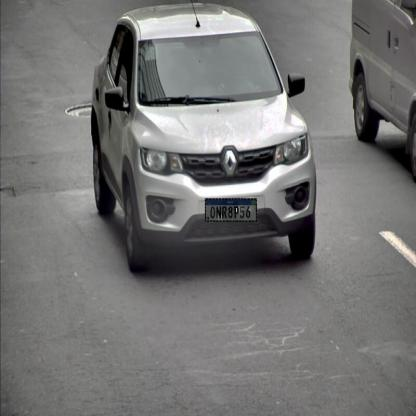PlacaM: (205, 198, 257, 222)
